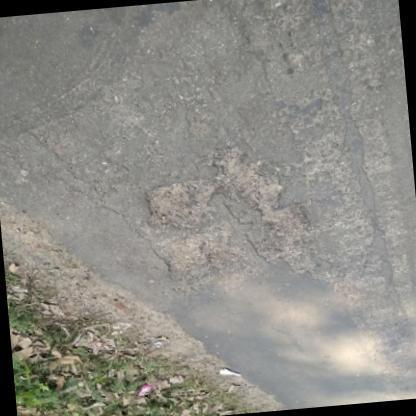pothole: (218, 144, 284, 220), (136, 179, 200, 227)
